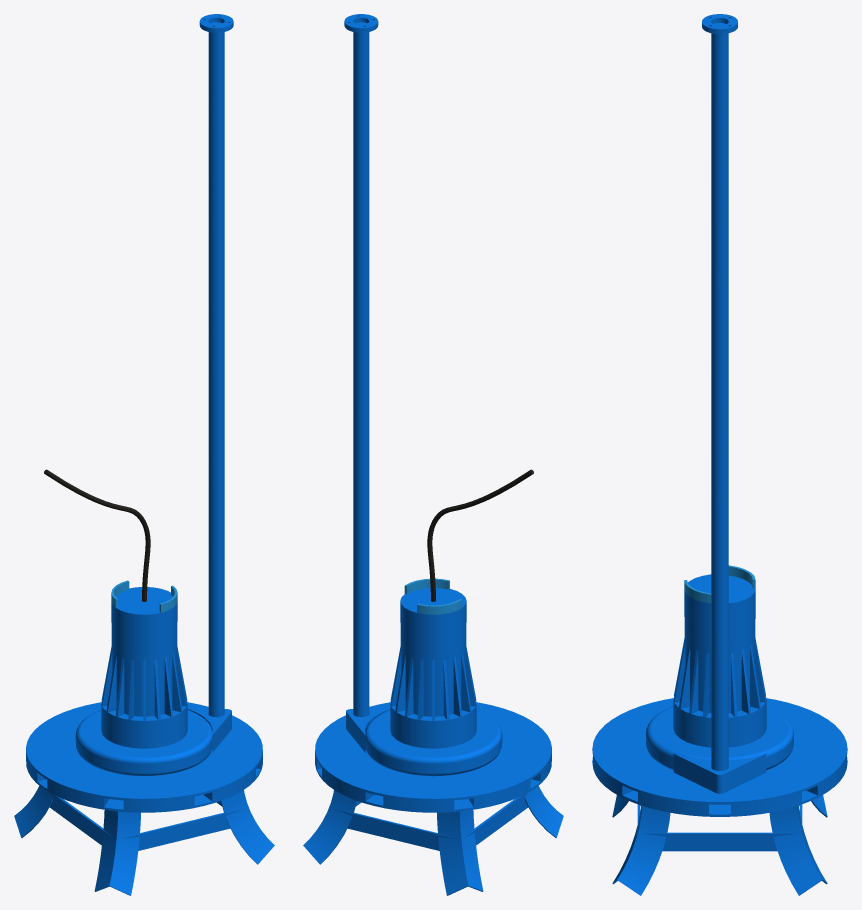
File: submersible-aerator.gltf
3 views of the same model, side by side, from view 1: azimuth 30°, elevation 25°; view 2: azimuth 150°, elevation 25°; view 3: azimuth 270°, elevation 25° (orthographic). The views are drawn at different scales.
Visible parts, largest first — view 1: 连接的实心几何图形 [213943], 拉伸 [214031], 拉伸 [214056], 旋转 [214003], 放样 [213873], 拉伸 [213871], 拉伸 [214047], 放样 [213901], 放样 [214363], 放样 [213887], 拉伸 [214051], 拉伸 [214019] (+1 smaller); view 2: 连接的实心几何图形 [213943], 拉伸 [214031], 拉伸 [214056], 旋转 [214003], 放样 [213887], 拉伸 [213871], 拉伸 [214047], 放样 [213915], 放样 [214363], 放样 [213873], 拉伸 [214346], 拉伸 [214051] (+2 smaller); view 3: 连接的实心几何图形 [213943], 拉伸 [214031], 拉伸 [214056], 旋转 [214003], 放样 [213901], 放样 [213915], 拉伸 [213871], 拉伸 [214019], 拉伸 [214047], 拉伸 [214051], 拉伸 [214346], 拉伸 [214026].
Part boxes in pixels (x1=…): 连接的实心几何图形 [213943]: x1=26, y1=702, x2=262, y2=812; 拉伸 [214031]: x1=208, y1=22, x2=224, y2=717; 拉伸 [214056]: x1=111, y1=587, x2=177, y2=716; 旋转 [214003]: x1=75, y1=710, x2=212, y2=776; 放样 [213873]: x1=94, y1=810, x2=140, y2=895; 拉伸 [213871]: x1=49, y1=793, x2=243, y2=850; 拉伸 [214047]: x1=101, y1=710, x2=187, y2=748; 放样 [213901]: x1=221, y1=790, x2=274, y2=864; 放样 [214363]: x1=44, y1=469, x2=150, y2=601; 放样 [213887]: x1=14, y1=786, x2=53, y2=837; 拉伸 [214051]: x1=101, y1=700, x2=187, y2=726; 拉伸 [214019]: x1=187, y1=706, x2=231, y2=752; 连接的实心几何图形 [213943]: x1=315, y1=702, x2=551, y2=812; 拉伸 [214031]: x1=353, y1=22, x2=369, y2=717; 拉伸 [214056]: x1=400, y1=588, x2=466, y2=716; 旋转 [214003]: x1=365, y1=710, x2=502, y2=776; 放样 [213887]: x1=437, y1=810, x2=483, y2=895; 拉伸 [213871]: x1=334, y1=793, x2=528, y2=850; 拉伸 [214047]: x1=390, y1=710, x2=476, y2=748; 放样 [213915]: x1=303, y1=790, x2=356, y2=864; 放样 [214363]: x1=427, y1=469, x2=533, y2=601; 放样 [213873]: x1=524, y1=786, x2=563, y2=837; 拉伸 [214346]: x1=404, y1=578, x2=462, y2=614; 拉伸 [214051]: x1=390, y1=700, x2=476, y2=726; 连接的实心几何图形 [213943]: x1=592, y1=698, x2=847, y2=816; 拉伸 [214031]: x1=711, y1=23, x2=728, y2=770; 拉伸 [214056]: x1=684, y1=574, x2=755, y2=712; 旋转 [214003]: x1=646, y1=706, x2=793, y2=770; 放样 [213901]: x1=612, y1=805, x2=670, y2=895; 放样 [213915]: x1=769, y1=805, x2=827, y2=895; 拉伸 [213871]: x1=637, y1=804, x2=802, y2=851; 拉伸 [214019]: x1=673, y1=754, x2=766, y2=793; 拉伸 [214047]: x1=673, y1=705, x2=766, y2=747; 拉伸 [214051]: x1=673, y1=696, x2=766, y2=723; 拉伸 [214346]: x1=684, y1=565, x2=755, y2=603; 拉伸 [214026]: x1=702, y1=14, x2=737, y2=34.
Bounding box in the file's own units: 0.465 × 1.74 × 0.465.
